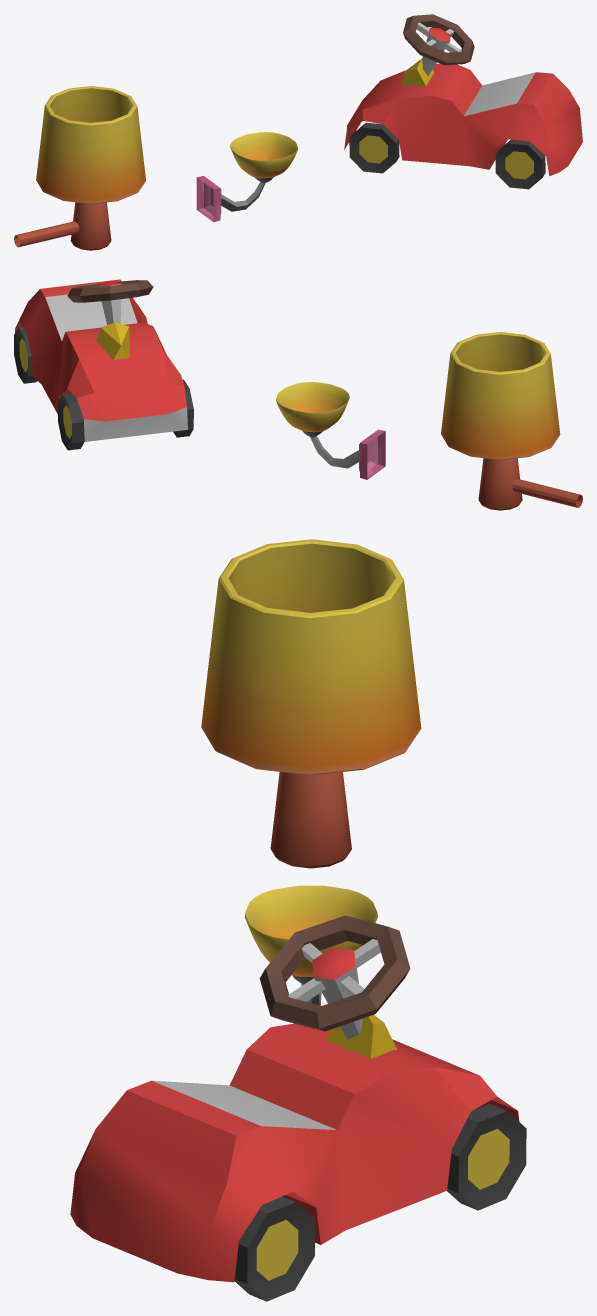
File: lamps with mini cooper.fbx
3 views of the same model, one above another, from view 1: azimuth 30°, elevation 25°; view 2: azimuth 150°, elevation 25°; view 3: azimuth 270°, elevation 25° (orthographic). The views are drawn at different scales.
Parts seen in each view (by area): view 1: Mini cooper, lamkawaan 2 lamp, Lumkawaan lamp; view 2: Mini cooper, lamkawaan 2 lamp, Lumkawaan lamp; view 3: Mini cooper, lamkawaan 2 lamp, Lumkawaan lamp.
Part boxes in pixels (bbox=[...]): Mini cooper: bbox=[344, 14, 582, 189]; lamkawaan 2 lamp: bbox=[14, 86, 145, 250]; Lumkawaan lamp: bbox=[196, 132, 297, 222]; Mini cooper: bbox=[14, 279, 193, 450]; lamkawaan 2 lamp: bbox=[441, 332, 582, 510]; Lumkawaan lamp: bbox=[276, 382, 385, 479]; Mini cooper: bbox=[70, 915, 526, 1301]; lamkawaan 2 lamp: bbox=[201, 539, 421, 868]; Lumkawaan lamp: bbox=[244, 885, 377, 1005].
Size of the model in its own units: 273 by 68.62 by 99.56.
1 material, 1 textured.
